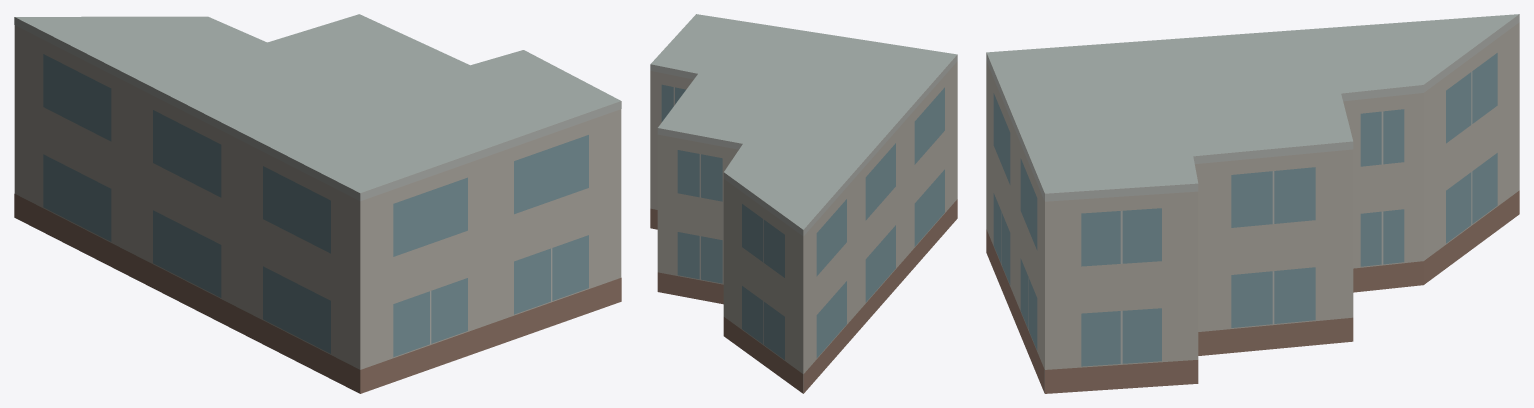
Rendered from survey-upis-32978827.glb.
The picture shows the model from 3 angles, left to right: view 1: azimuth 30°, elevation 25°; view 2: azimuth 150°, elevation 25°; view 3: azimuth 270°, elevation 25°; orthographic projection. The views are drawn at different scales.
Visible parts, largest first — view 1: survey-upis-32978827.tmp; view 2: survey-upis-32978827.tmp; view 3: survey-upis-32978827.tmp.
Boxes of the visible parts, left/top/right/bottom form: survey-upis-32978827.tmp: left=14, top=14, right=621, bottom=393; survey-upis-32978827.tmp: left=650, top=14, right=957, bottom=393; survey-upis-32978827.tmp: left=986, top=14, right=1519, bottom=393.
Bounding box in the file's own units: 11.76 × 6.1 × 14.74.
